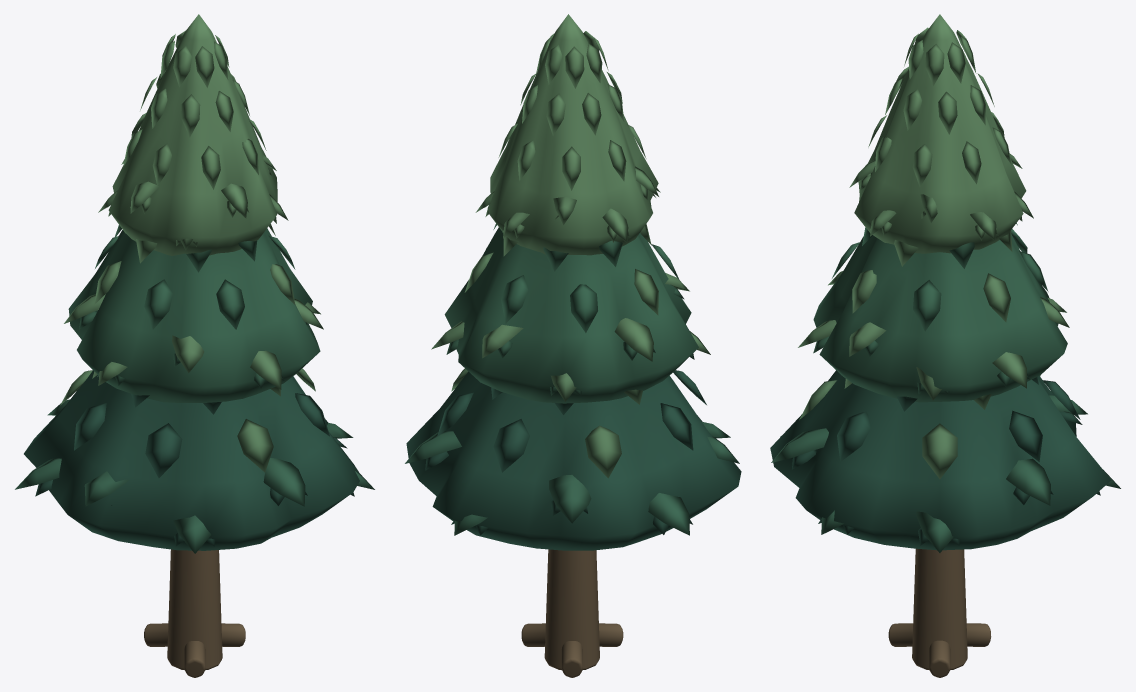
File: tree_pine.glb
3 views of the same model, side by side, from view 1: azimuth 30°, elevation 25°; view 2: azimuth 150°, elevation 25°; view 3: azimuth 270°, elevation 25° (orthographic).
Parts seen in each view (by area): view 1: Pine_foliage_tier, Pine_foliage_tier.001, Pine_foliage_tier.002, Pine_trunk, Pine_surface_sprays_2, Pine_surface_sprays_0, Pine_surface_sprays_1, Pine_needle_spray.007, Pine_needle_spray.006, Pine_needle_spray.015, Pine_needle_spray.005, Pine_needle_spray.014 (+5 smaller); view 2: Pine_foliage_tier, Pine_foliage_tier.001, Pine_foliage_tier.002, Pine_trunk, Pine_surface_sprays_2, Pine_surface_sprays_0, Pine_surface_sprays_1, Pine_needle_spray.003, Pine_needle_spray.004, Pine_needle_spray.012, Pine_needle_spray.001, Pine_root.001 (+3 smaller); view 3: Pine_foliage_tier, Pine_foliage_tier.001, Pine_foliage_tier.002, Pine_trunk, Pine_surface_sprays_2, Pine_surface_sprays_0, Pine_surface_sprays_1, Pine_needle_spray.001, Pine_needle_spray.007, Pine_needle_spray, Pine_root, Pine_needle_spray.009 (+3 smaller).
Boxes of the visible parts, x1,y1,x2,y2 form: Pine_foliage_tier: (24,370,361,550); Pine_foliage_tier.001: (68,228,320,402); Pine_foliage_tier.002: (108,14,277,255); Pine_trunk: (167,549,222,670); Pine_surface_sprays_2: (123,30,266,189); Pine_surface_sprays_0: (60,368,329,477); Pine_surface_sprays_1: (94,224,295,329); Pine_needle_spray.007: (263,458,305,506); Pine_needle_spray.006: (173,515,211,553); Pine_needle_spray.015: (250,350,281,389); Pine_needle_spray.005: (84,471,129,506); Pine_needle_spray.014: (172,335,204,372); Pine_foliage_tier: (406,371,741,550); Pine_foliage_tier.001: (444,227,698,403); Pine_foliage_tier.002: (487,14,658,255); Pine_trunk: (544,549,599,670); Pine_surface_sprays_2: (498,31,646,190); Pine_surface_sprays_0: (437,368,706,478); Pine_surface_sprays_1: (464,223,679,332); Pine_needle_spray.003: (549,475,591,523); Pine_needle_spray.004: (648,493,689,535); Pine_needle_spray.012: (614,318,653,361); Pine_needle_spray.001: (405,431,461,463); Pine_root.001: (561,641,582,677); Pine_foliage_tier: (770,370,1111,550); Pine_foliage_tier.001: (813,234,1067,402); Pine_foliage_tier.002: (854,14,1026,253); Pine_trunk: (912,548,967,670); Pine_surface_sprays_2: (868,27,1011,187); Pine_surface_sprays_0: (799,375,1080,479); Pine_surface_sprays_1: (832,223,1048,331); Pine_needle_spray.001: (1006,458,1050,505); Pine_needle_spray.007: (771,428,828,462); Pine_needle_spray: (916,511,953,552); Pine_root: (929,640,950,677); Pine_needle_spray.009: (992,352,1026,388).
Size of the model in its own units: 1.6 by 3.2 by 1.57.
